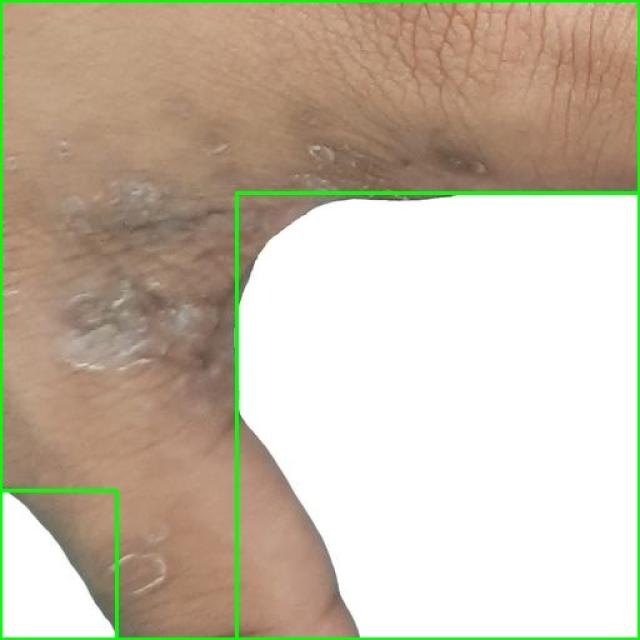Scabies: (0, 0, 639, 639), (236, 192, 639, 639), (0, 490, 116, 639)
